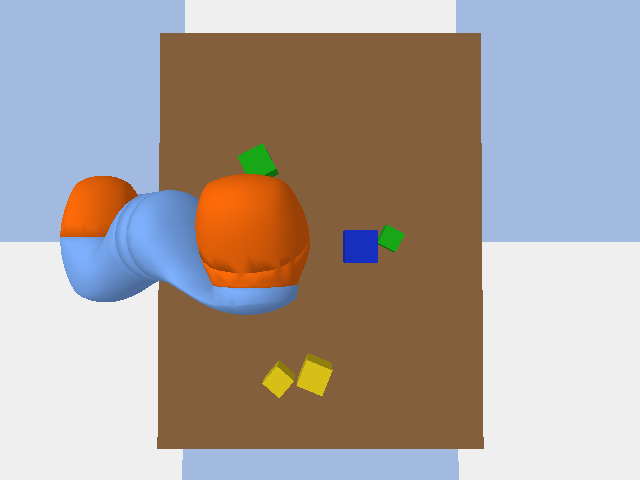blue_obj: (343, 230, 377, 262)
green_obj: (237, 143, 278, 176), (378, 225, 404, 251)
yellow_obj: (296, 353, 332, 395), (262, 360, 294, 397)
